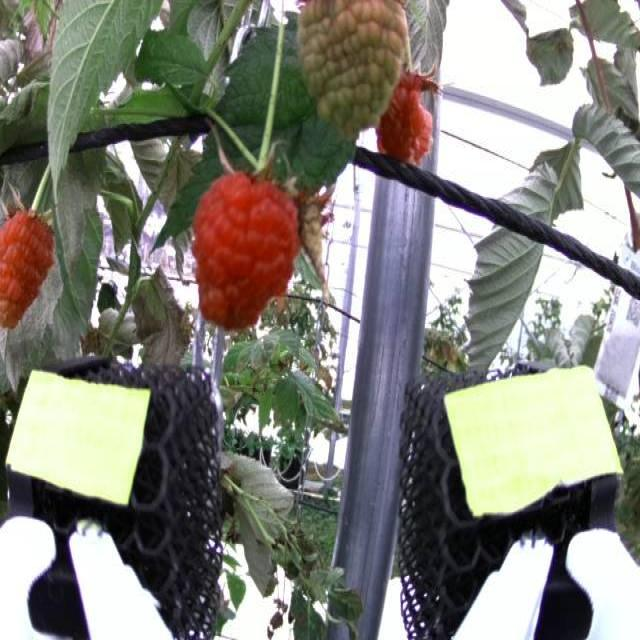Riped berries: (189, 167, 302, 332), (371, 56, 447, 176), (0, 201, 56, 333)
